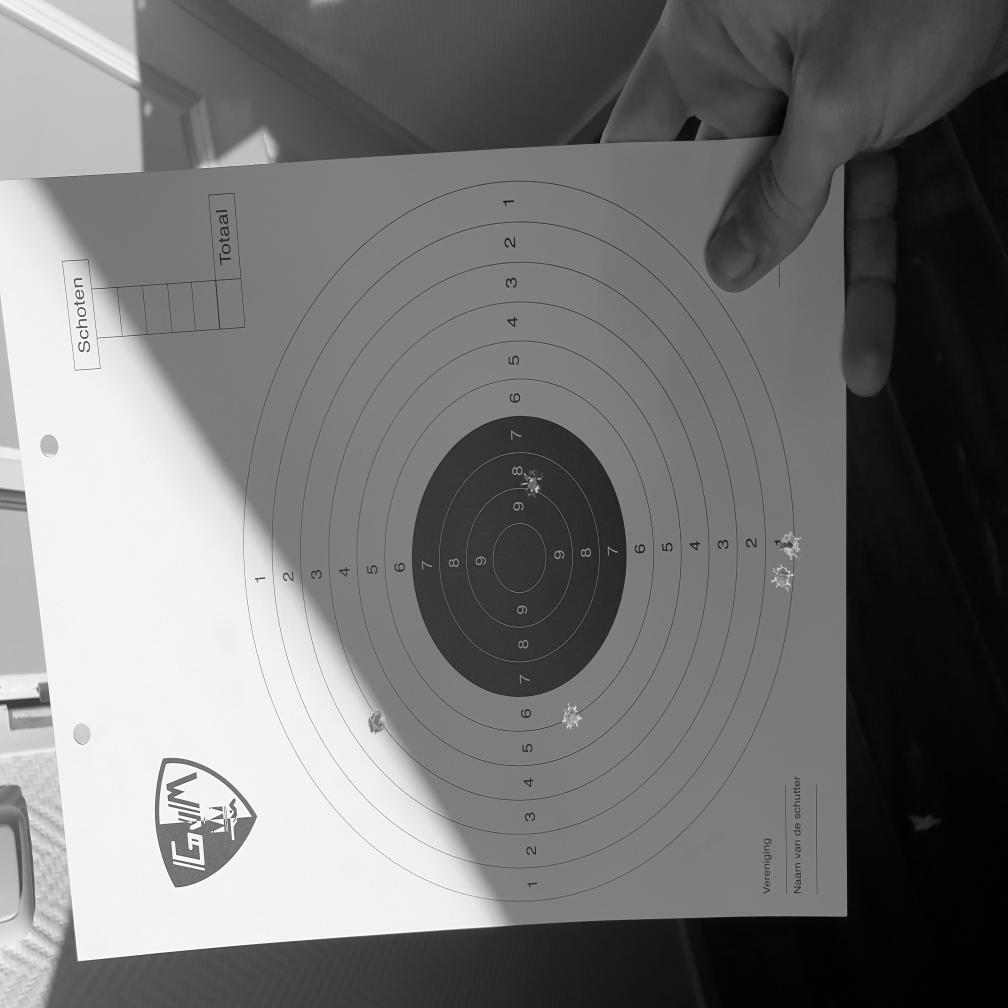1: (779, 531, 801, 560), (771, 564, 793, 591)
4: (368, 709, 385, 735)
6: (561, 702, 583, 730)
9: (520, 470, 544, 497)
Target: (243, 173, 796, 903)
black_contour: (412, 414, 626, 696)
